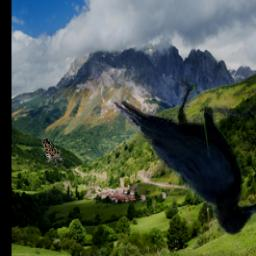Crow: (112, 77, 256, 235)
Sparrow: (43, 138, 65, 168)
